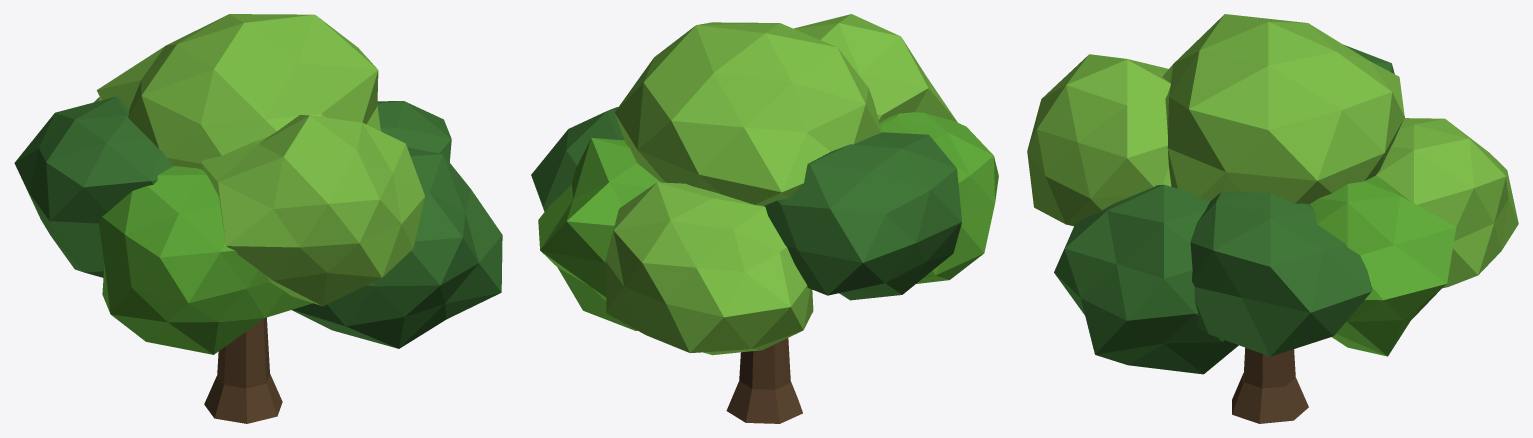
Rendered from tree_oak_3.glb.
3 views of the same model, side by side, from view 1: azimuth 30°, elevation 25°; view 2: azimuth 150°, elevation 25°; view 3: azimuth 270°, elevation 25° (orthographic). The views are drawn at different scales.
Visible parts, largest first — view 1: tree_oak_3; view 2: tree_oak_3; view 3: tree_oak_3.
Part boxes in pixels (<box>): tree_oak_3: <box>14,14,502,423</box>; tree_oak_3: <box>531,14,998,423</box>; tree_oak_3: <box>1027,14,1518,423</box>.
Size of what is drawn, in the model's own units: 8.06 by 7.1 by 8.2.
